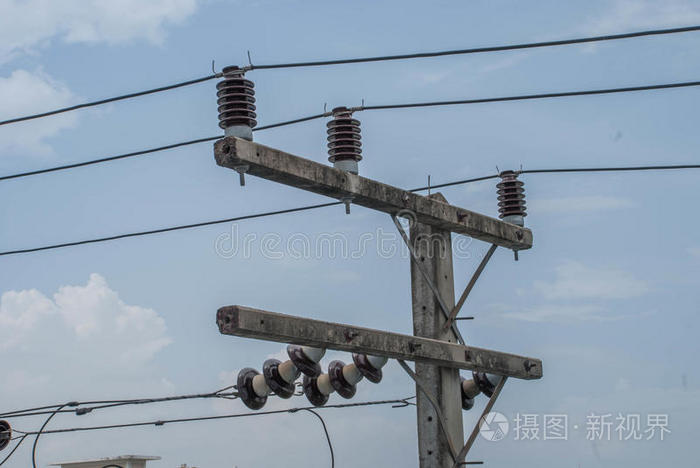insulator: (235, 344, 315, 411), (303, 353, 379, 407), (212, 77, 260, 130), (324, 118, 365, 162), (458, 371, 496, 409), (496, 178, 529, 217)
